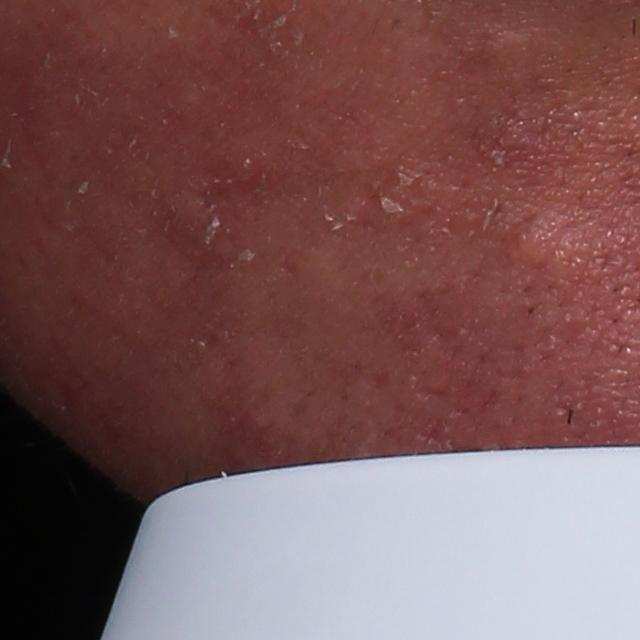hypertrophic_scar: (510, 218, 563, 276)
